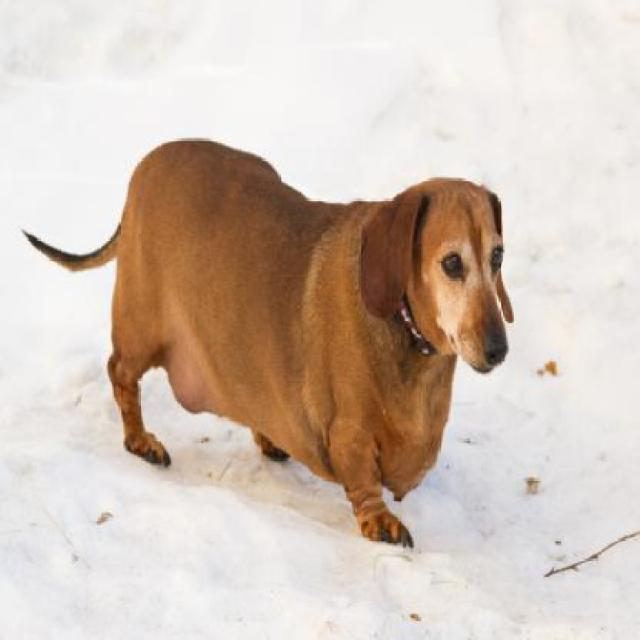Dog: (17, 135, 515, 557)
